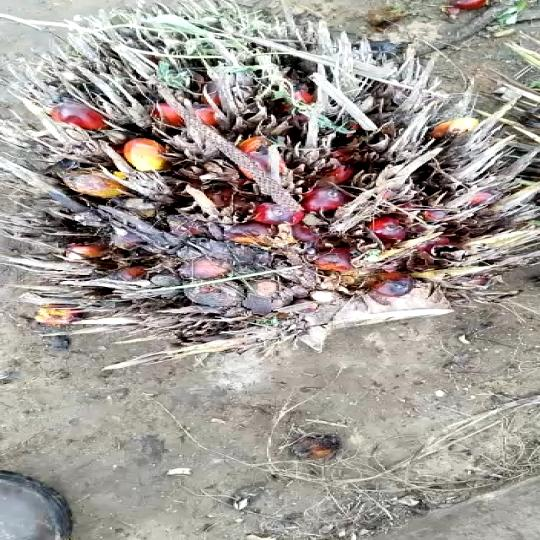terlalu masak: (0, 0, 540, 389)
